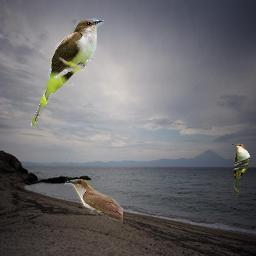Cuckoo: (30, 18, 104, 128), (64, 179, 123, 223), (232, 143, 251, 198)
